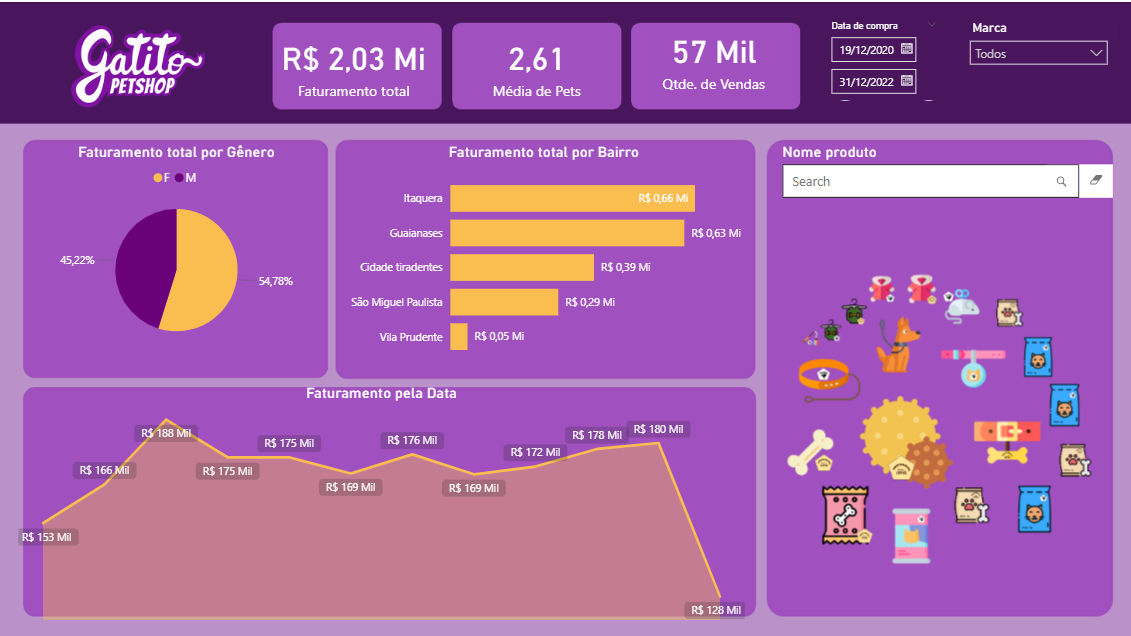

The dashboard page shown, as its layout file describes it:
{"tool":"powerbi","page":{"name":"Página 1","canvas":[1280,720],"ordinal":0},"visuals":[{"type":"card","fields":{"Values":["Avg(Clientes.Pets)"]},"box":[512,16,192,112],"z":0},{"type":"card","fields":{"Values":["Sum(Vendas.Quantidade)"]},"box":[720,16,176,96],"z":1000},{"type":"card","fields":{"Values":["Vendas.Faturamento total"]},"box":[304,16,192,112],"z":2000},{"type":"pieChart","fields":{"Category":["Clientes.Gênero"],"Y":["Vendas.Faturamento total"]},"box":[32,160,336,240],"z":3000},{"type":"clusteredBarChart","fields":{"Category":["Clientes.Bairro"],"Y":["Vendas.Faturamento total"]},"box":[384,160,464,256],"z":4000},{"type":"areaChart","title":"Faturamento pela Data","fields":{"Category":["Vendas.Data de compra.Variation.Hierarquia de datas.Ano","Vendas.Data de compra.Variation.Hierarquia de datas.Trimestre","Vendas.Data de compra.Variation.Hierarquia de datas.Mês","Vendas.Data de compra.Variation.Hierarquia de datas.Dia"],"Y":["Vendas.Faturamento total"]},"box":[16,432,832,272],"z":5000},{"type":"ImageGrid_FC5183B9_926C_45E0_B5F7_0CE9EAF1DA9B","fields":{"ImageURL":["Produtos.Url img"]},"box":[864,240,400,464],"z":6000},{"type":"textFilter25A4896A83E0487089E2B90C9AE57C8A","fields":{"field":["Produtos.Nome produto"]},"box":[880,160,384,80],"z":7000},{"type":"slicer","fields":{"Values":["Produtos.Marca"]},"box":[1088,16,176,96],"z":8000},{"type":"slicer","fields":{"Values":["Vendas.Data de compra"]},"box":[928,16,144,96],"z":9000}]}

Visuals, with their boxes in screenshot pixels (x1, y1, x2, y2), scaled from the page's 1280x720 canvas onto the 1131x636 screenshot:
card - Avg(Clientes.Pets): 452,14,622,113
card - Sum(Vendas.Quantidade): 636,14,792,99
card - Vendas.Faturamento total: 269,14,438,113
pieChart - Clientes.Gênero x Vendas.Faturamento total: 28,141,325,353
clusteredBarChart - Clientes.Bairro x Vendas.Faturamento total: 339,141,749,367
"Faturamento pela Data" areaChart: 14,382,749,622
ImageGrid_FC5183B9_926C_45E0_B5F7_0CE9EAF1DA9B - Produtos.Url img: 763,212,1117,622
textFilter25A4896A83E0487089E2B90C9AE57C8A - Produtos.Nome produto: 778,141,1117,212
slicer - Produtos.Marca: 961,14,1117,99
slicer - Vendas.Data de compra: 820,14,947,99
